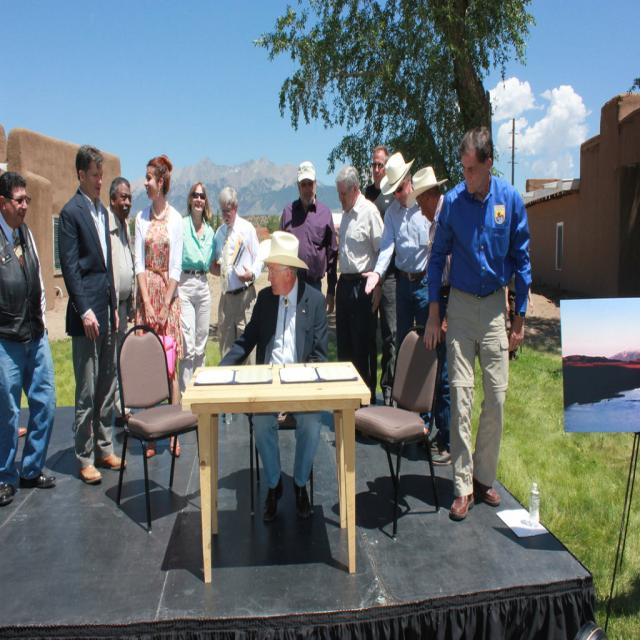chair: (112, 324, 201, 535), (355, 328, 441, 540)
desk: (170, 366, 362, 569)
person: (424, 126, 532, 521), (217, 228, 330, 529), (58, 144, 122, 486), (0, 166, 59, 496), (365, 154, 421, 406), (132, 155, 184, 411), (334, 167, 384, 401), (212, 184, 260, 359), (280, 160, 337, 303), (178, 181, 216, 385), (364, 143, 391, 220)
